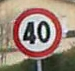limite 40: (11, 5, 62, 60)
